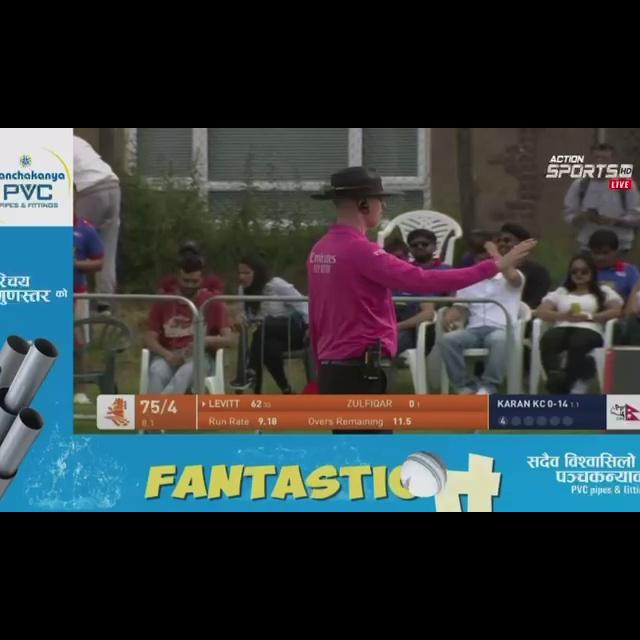umpire: (285, 152, 534, 383)
